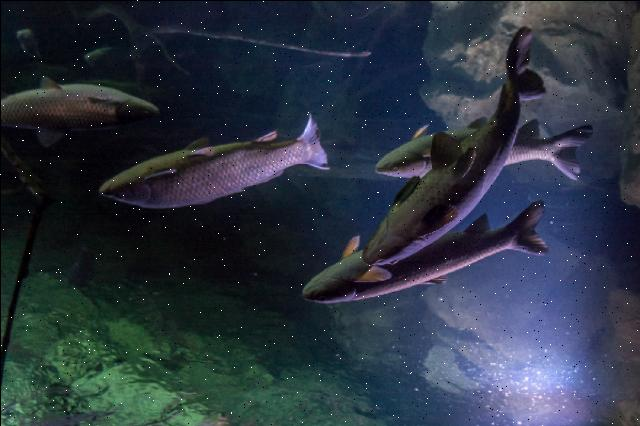Mulut: (89, 162, 123, 214), (348, 238, 397, 272), (289, 264, 321, 314), (123, 94, 169, 124)
Sirip Anal: (452, 210, 493, 240), (252, 117, 284, 151)
Sirip Dada: (387, 174, 458, 242), (335, 228, 399, 294), (144, 158, 182, 186), (80, 88, 120, 112)
Sirip Ekor: (279, 106, 339, 182), (502, 14, 552, 104), (504, 194, 560, 262), (546, 117, 600, 183)
Sirip Perut: (424, 124, 476, 180), (184, 124, 222, 168), (29, 70, 57, 96)
Sirip Punggung: (26, 122, 68, 150)
